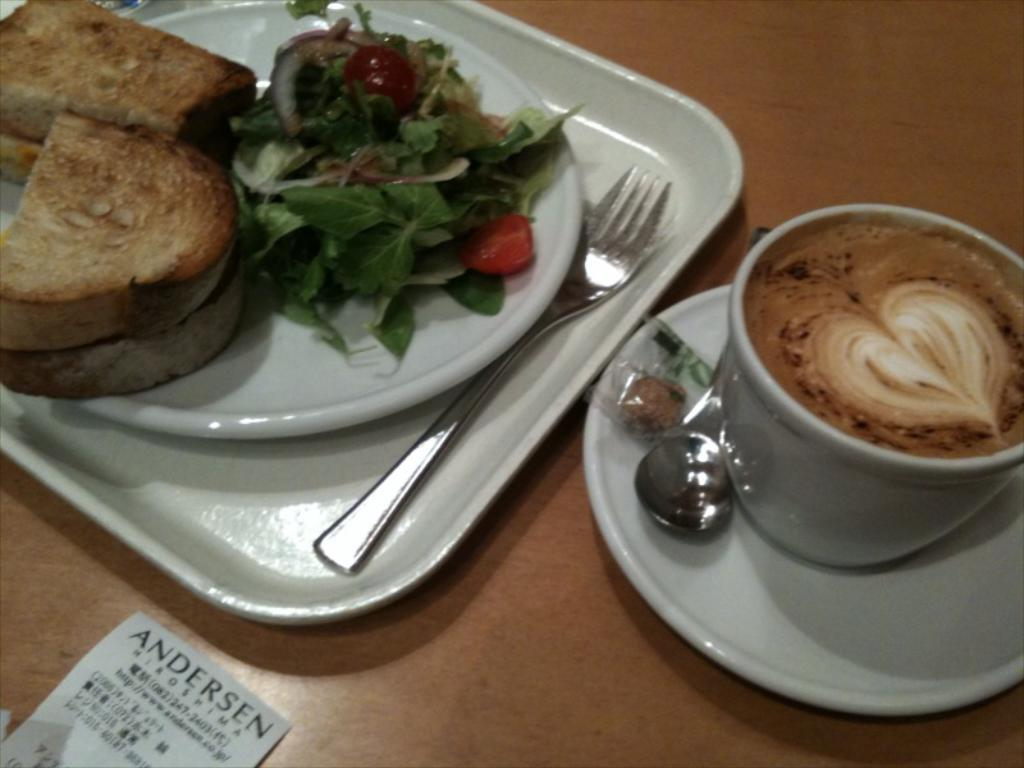salad: (188, 3, 577, 393)
